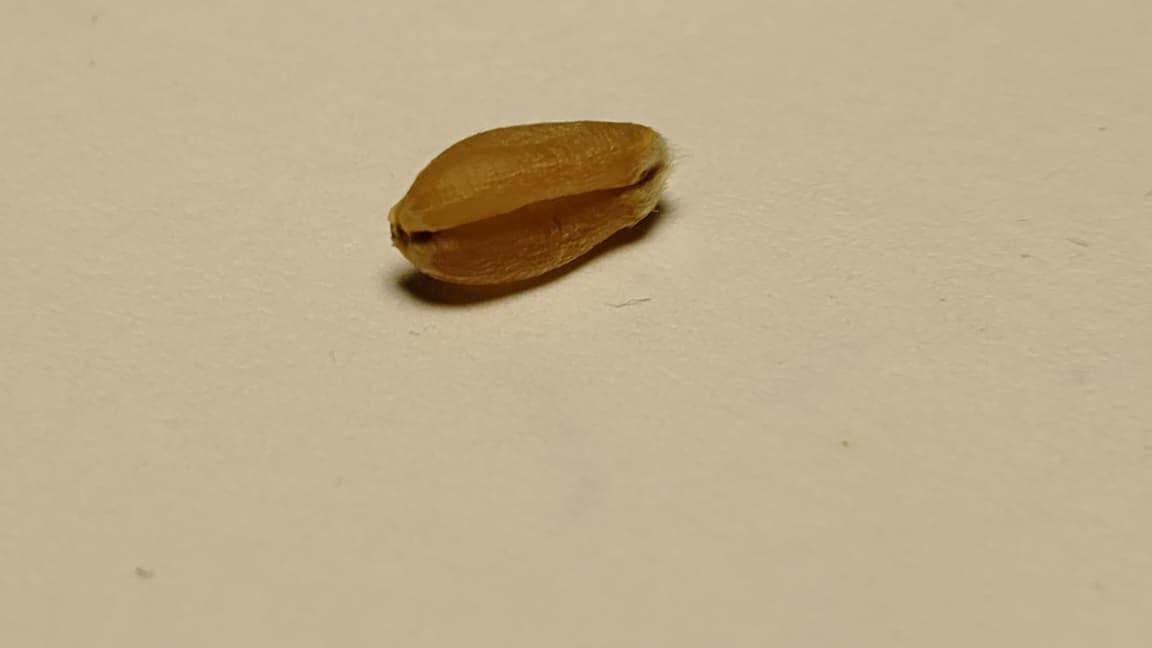healthy: (391, 121, 670, 283)
